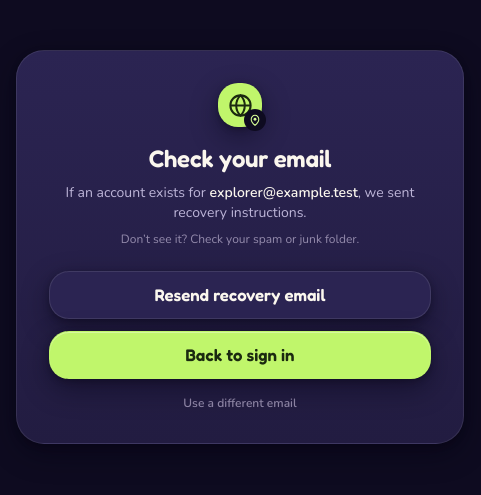
Test case: ResetPasswordPage › shows the Check your email card with a resend cooldown and allows resending once ready
This screenshot has width=481, height=495.
Earlier steps of the test are not shown.
Later steps or results of the test are not shown.
Expected: the heading "Check your email" is shown, [149, 143, 331, 175]
Expected: the text "explorer@example.test" is shown, [210, 183, 358, 202]
What coordinates should you click on to do the following:
click the button "Resend recovery email"
I would click on:
 (240, 295)
Its box is [49, 271, 431, 319].
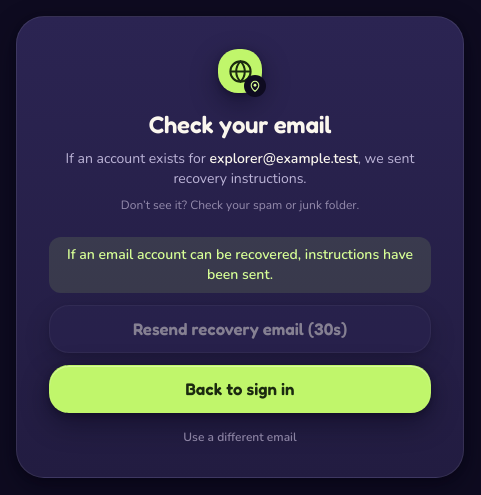
Expected: the message reads "If an email account can be recovered, instructions have been sent.", [67, 245, 413, 284]
Expected: the button "Resend recovery email (30s)" is disabled, [49, 305, 431, 353]
